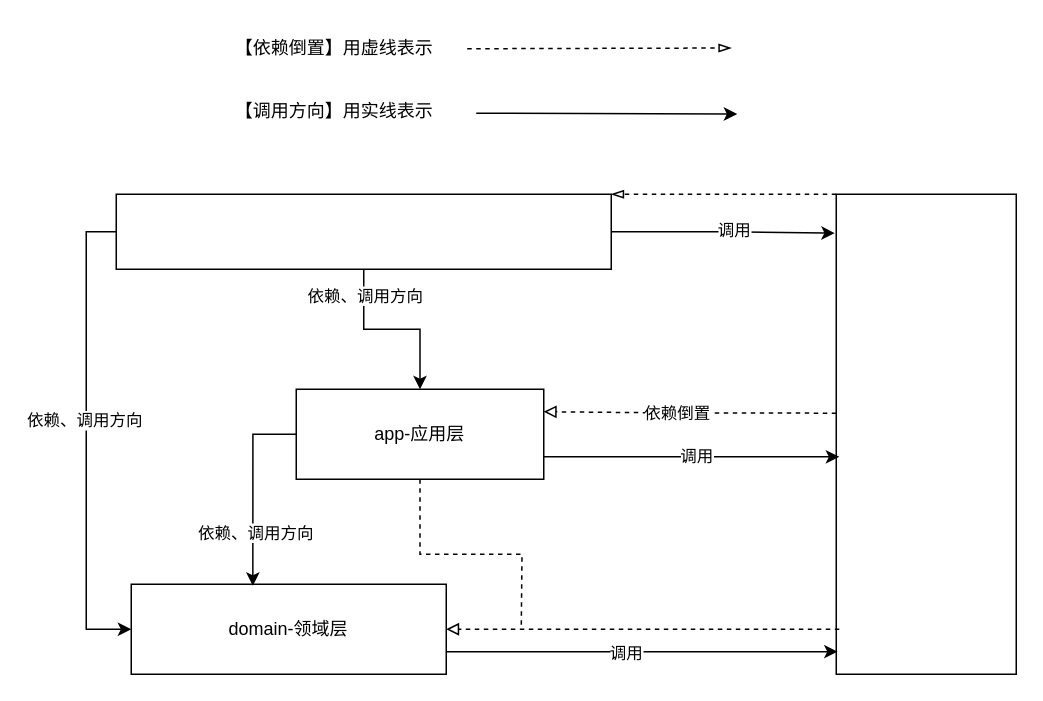
Some shapes in this 1043 by 701 pixel diagram are drawn without their labels. The shapes that lost their labels are listed below. From the top down, each one's box as (x1, y1, x2, y2) in pixels, then its label:
(115, 193, 611, 269): inbound-adapter-适配层
(835, 193, 1016, 674): infr-基础设施 (out-bound-adapter)
